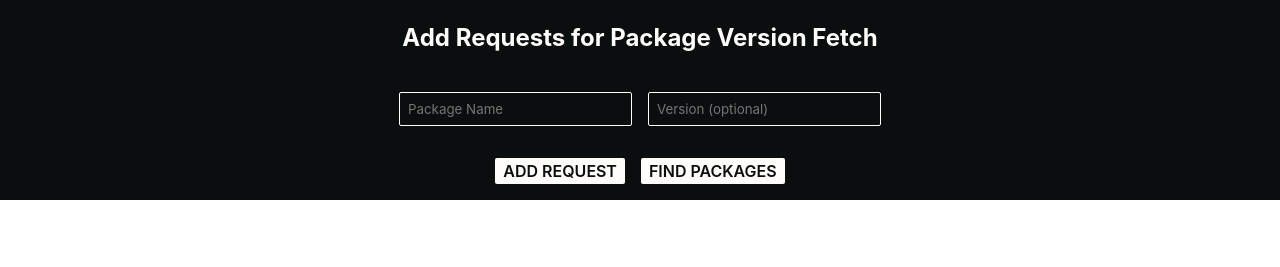
Scenario: Packages Component › Should allow adding a new request row
# Simulate clicking "Add Request"
Click the button "Add Request". click: coordinates (560, 171)
box: x1=495 y1=158 x2=625 y2=184
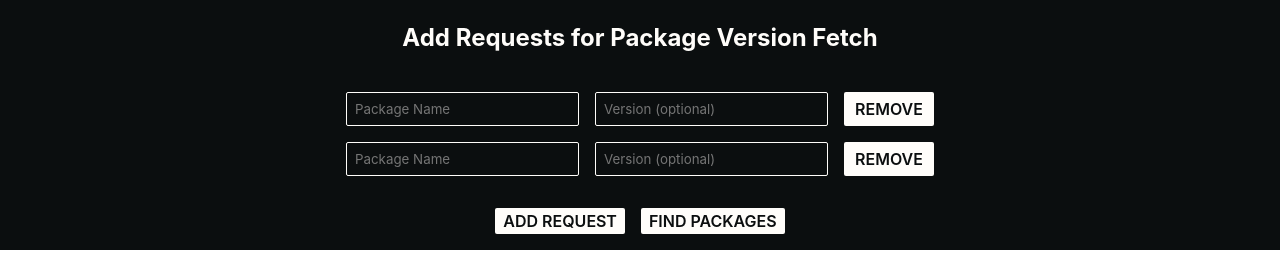
Expected: the number of fields with placeholder "Package Name" is 2, x1=346 y1=92 x2=579 y2=126; x1=346 y1=142 x2=579 y2=176
Expected: the number of fields with placeholder "Version (optional)" is 2, x1=595 y1=92 x2=828 y2=126; x1=595 y1=142 x2=828 y2=176
